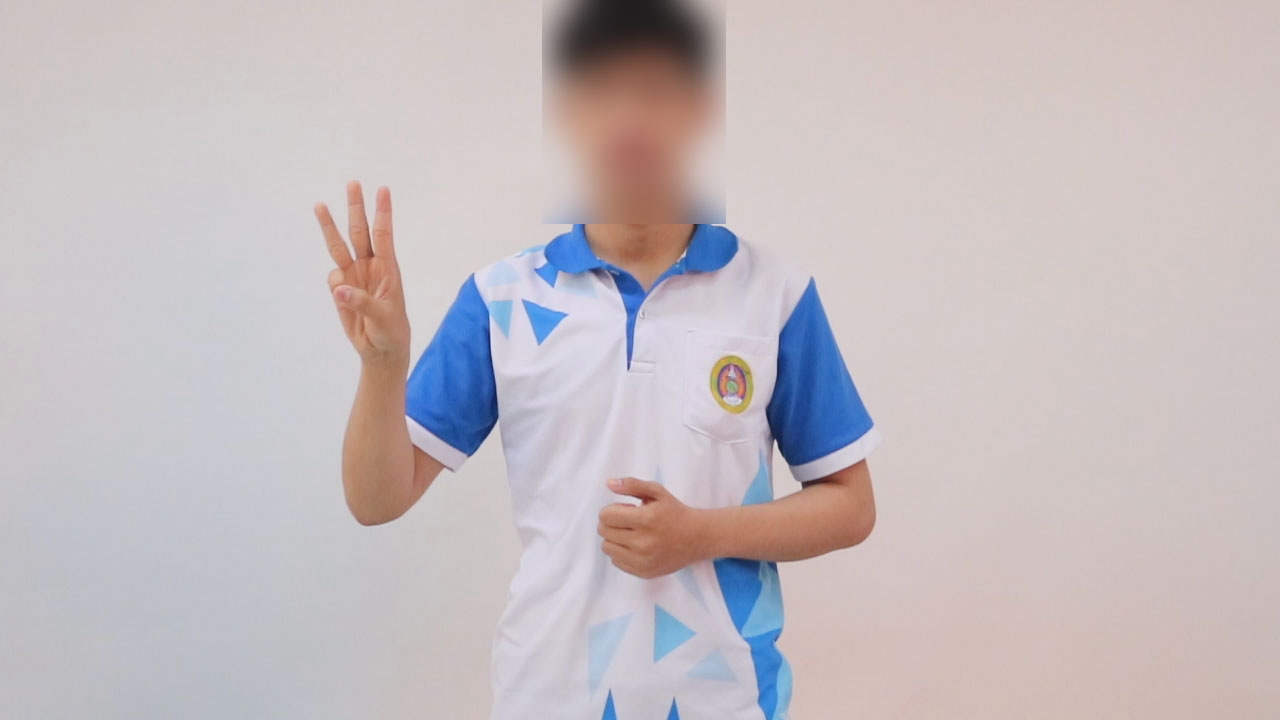wor: (307, 172, 419, 374)
